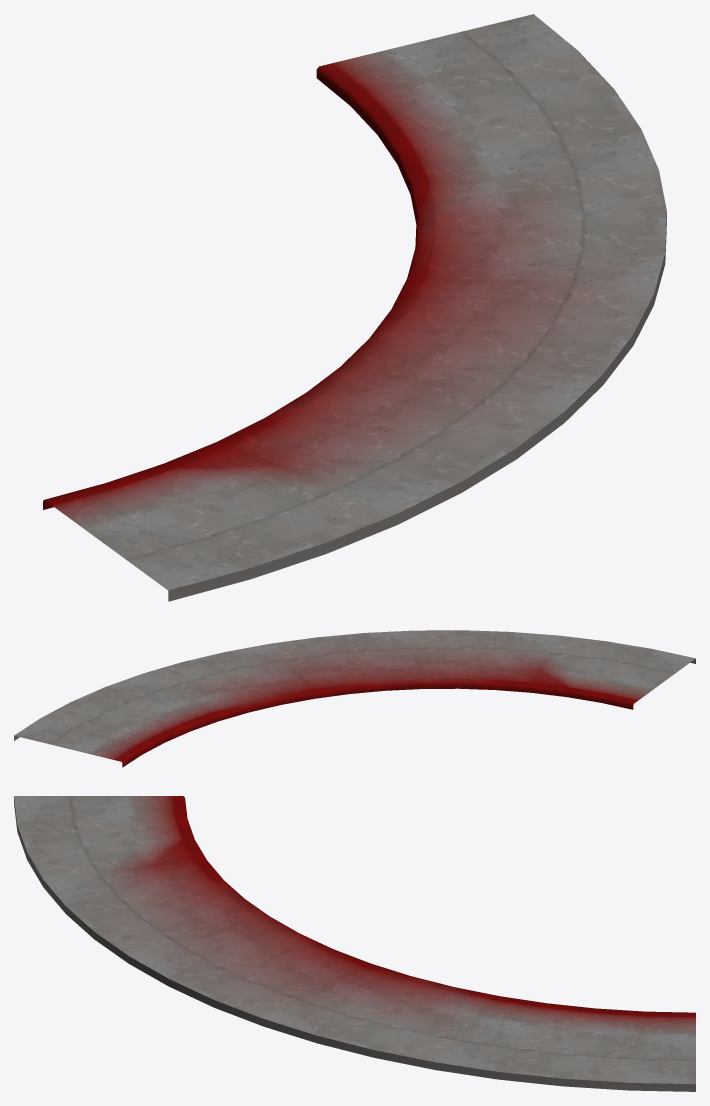
Rendered from Street_Curve_2Lane_Curb.glb.
The picture shows the model from 3 angles, top to bottom: view 1: azimuth 30°, elevation 25°; view 2: azimuth 150°, elevation 25°; view 3: azimuth 270°, elevation 25°; orthographic projection. The views are drawn at different scales.
Visible parts, largest first — view 1: Street_Curve_2Lane_Curb; view 2: Street_Curve_2Lane_Curb; view 3: Street_Curve_2Lane_Curb.
Boxes of the visible parts, x1,y1,x2,y2 form: Street_Curve_2Lane_Curb: (43, 14, 666, 601); Street_Curve_2Lane_Curb: (14, 630, 695, 767); Street_Curve_2Lane_Curb: (14, 796, 695, 1091).
Bounding box in the file's own units: 12 × 0.1502 × 12.
1 material, 1 textured.
